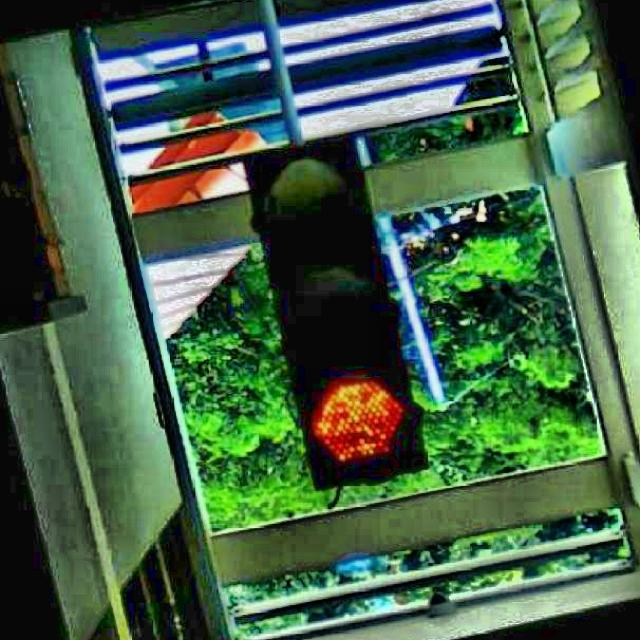red: (249, 144, 423, 470)
